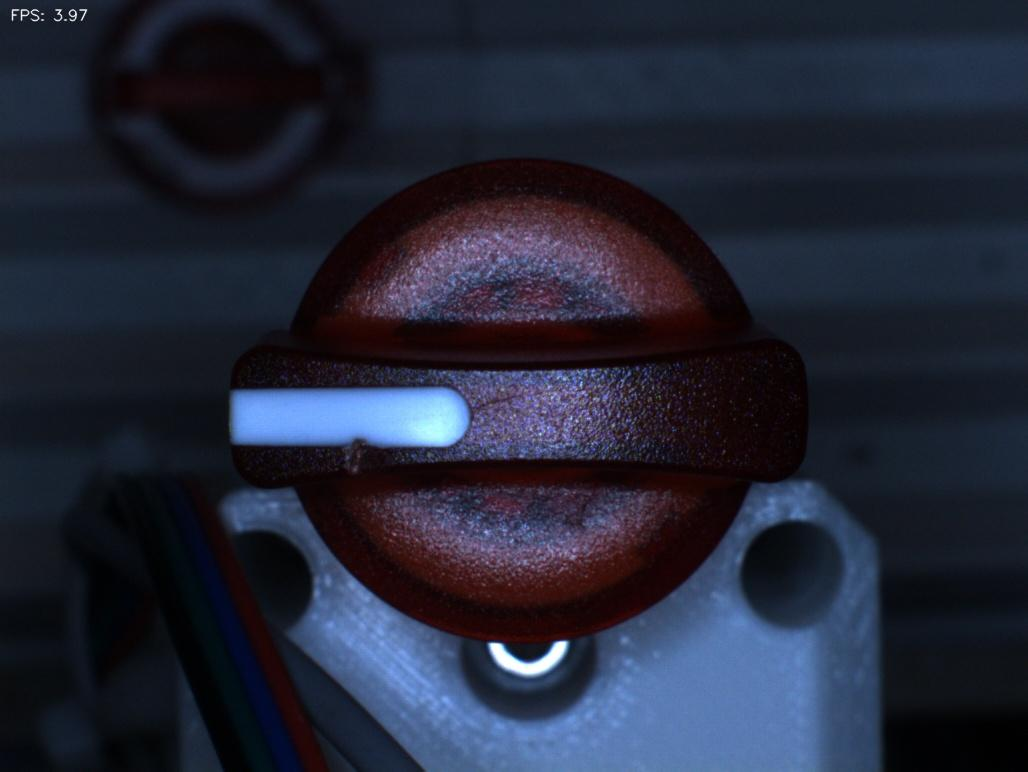Choc: (311, 421, 402, 509)
